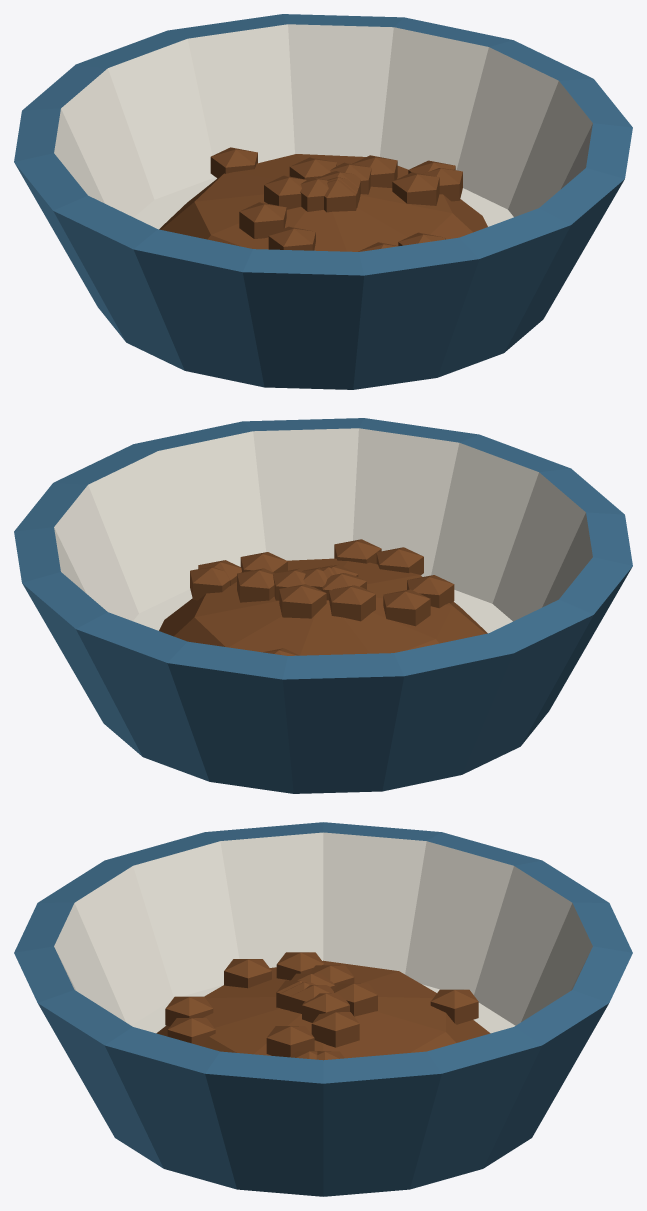
Rendered from cat_bowl.glb.
3 renders of one model, top to bottom at view 1: azimuth 30°, elevation 25°; view 2: azimuth 150°, elevation 25°; view 3: azimuth 270°, elevation 25°, orthographic.
Visible parts, largest first — view 1: CatBowl, Food; view 2: CatBowl, Food; view 3: CatBowl, Food.
Boxes of the visible parts, bbox=[...] form: CatBowl: bbox=[14, 14, 632, 389]; Food: bbox=[159, 147, 487, 251]; CatBowl: bbox=[14, 418, 632, 793]; Food: bbox=[159, 539, 487, 655]; CatBowl: bbox=[14, 822, 632, 1196]; Food: bbox=[156, 952, 490, 1060].
Bounding box in the file's own units: 0.17 × 0.055 × 0.17.
